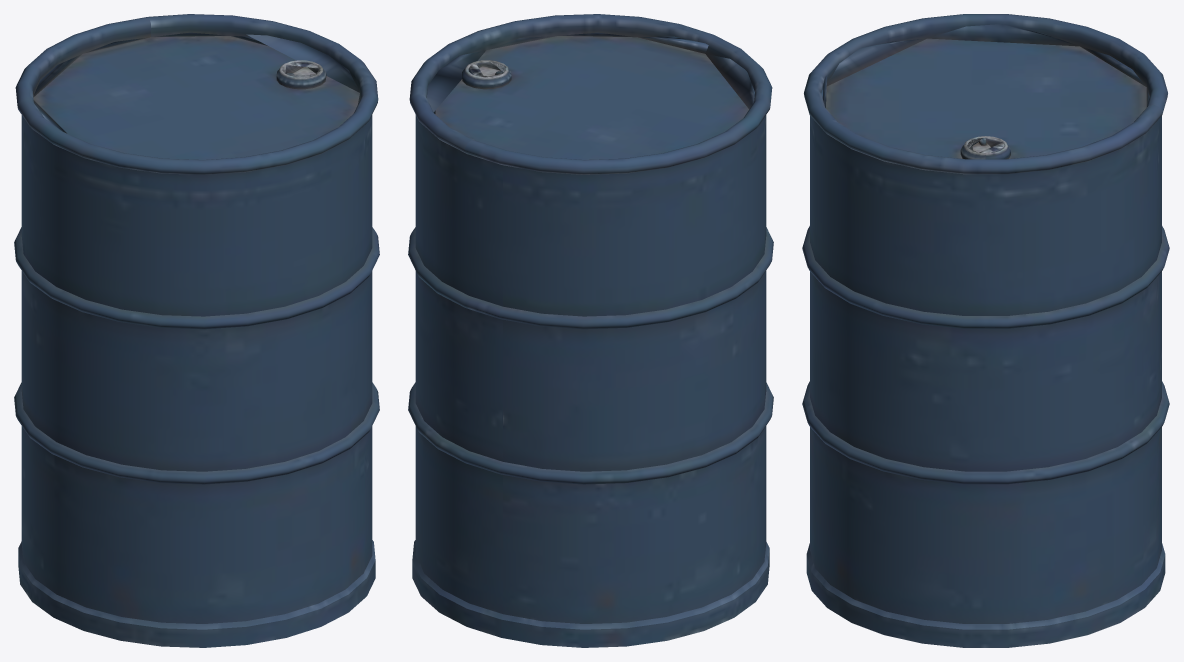
Rendered from barrel_03.glb.
3 views of the same model, side by side, from view 1: azimuth 30°, elevation 25°; view 2: azimuth 150°, elevation 25°; view 3: azimuth 270°, elevation 25° (orthographic).
Parts seen in each view (by area): view 1: barrel_03, barrel_03_lo; view 2: barrel_03, barrel_03_lo; view 3: barrel_03, barrel_03_lo.
Part boxes in pixels (left/top/right/bottom): barrel_03: left=14, top=14, right=379, bottom=647; barrel_03_lo: left=33, top=32, right=360, bottom=627; barrel_03: left=408, top=14, right=773, bottom=647; barrel_03_lo: left=427, top=32, right=757, bottom=591; barrel_03: left=802, top=14, right=1169, bottom=647; barrel_03_lo: left=821, top=24, right=1157, bottom=647.
Bounding box in the file's own units: 0.634 × 0.9305 × 0.6386.
Materials: 1 (1 with a texture image).
